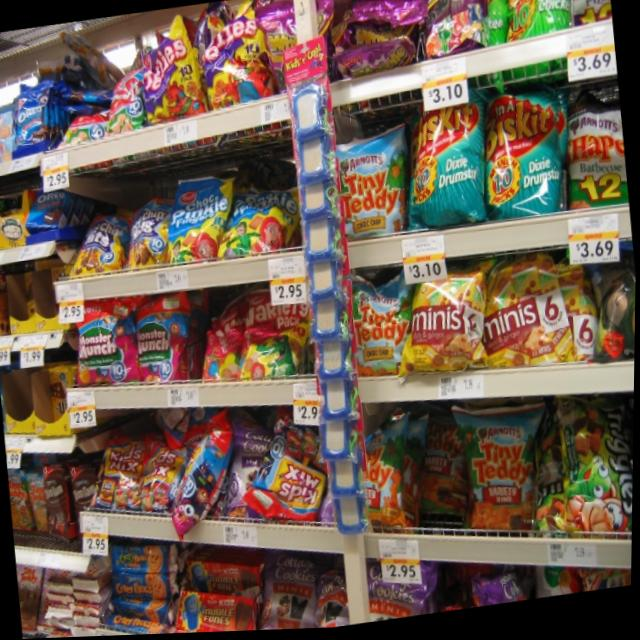q58: (393, 83, 487, 243), (480, 82, 573, 224)
